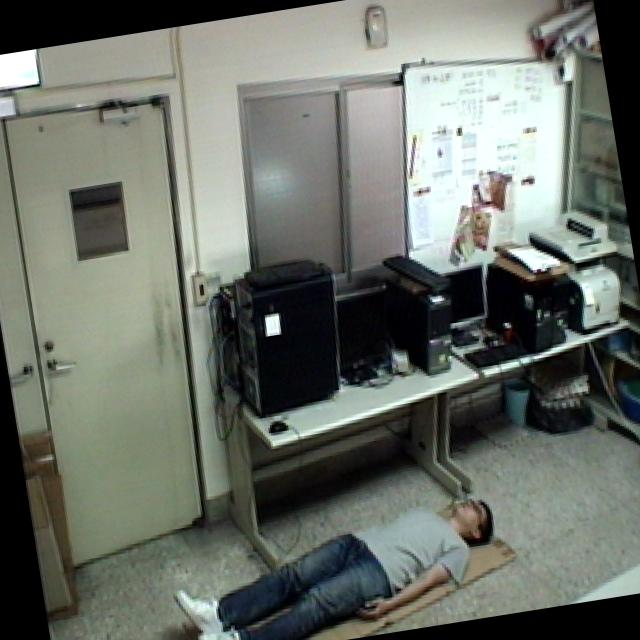lie: (155, 461, 524, 640)
